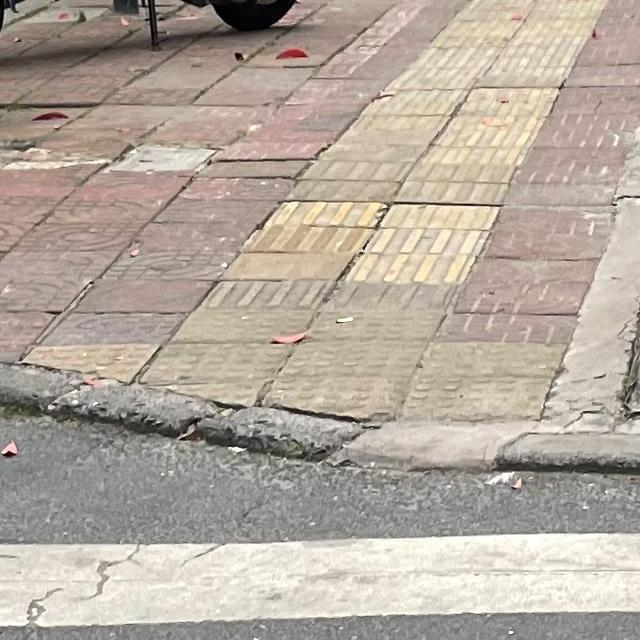curb: (0, 363, 639, 473), (540, 127, 639, 431)
